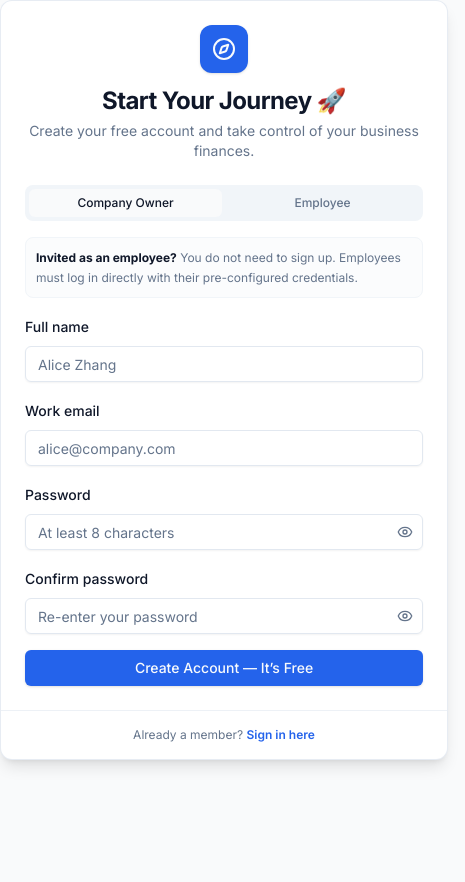
Test case: SignUpForm › validates empty inputs and password length under 8 characters
Type "A" into the field labelled "Full name" at (224, 364), box top-left (25, 346), bottom-right (423, 382)
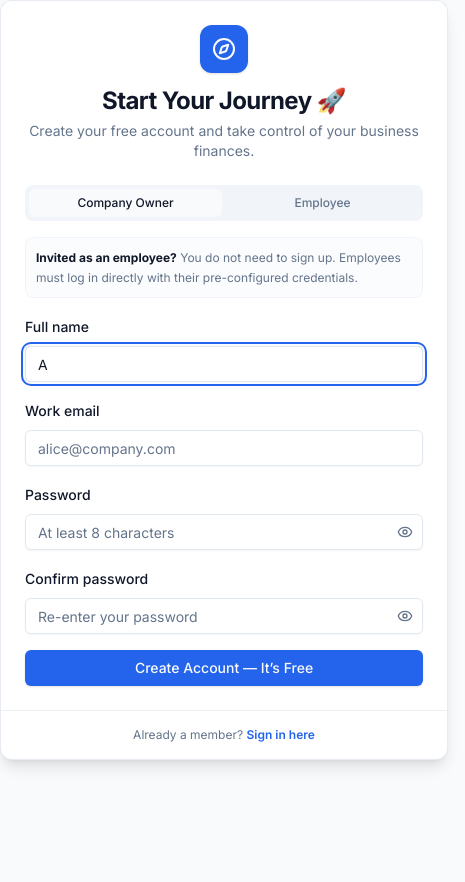
Type "not-an-email" into the field labelled "Work email" at (224, 448), box top-left (25, 430), bottom-right (423, 466)
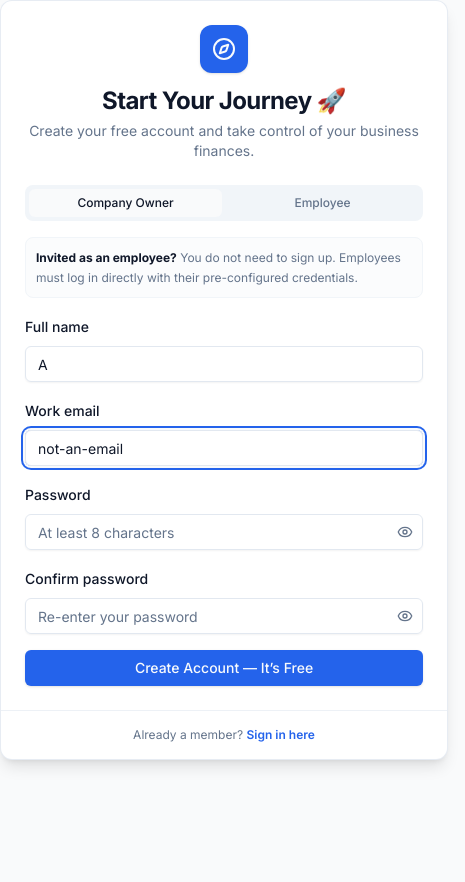
Type "short" into the password field labelled "Password" at (224, 532), box top-left (25, 514), bottom-right (423, 550)
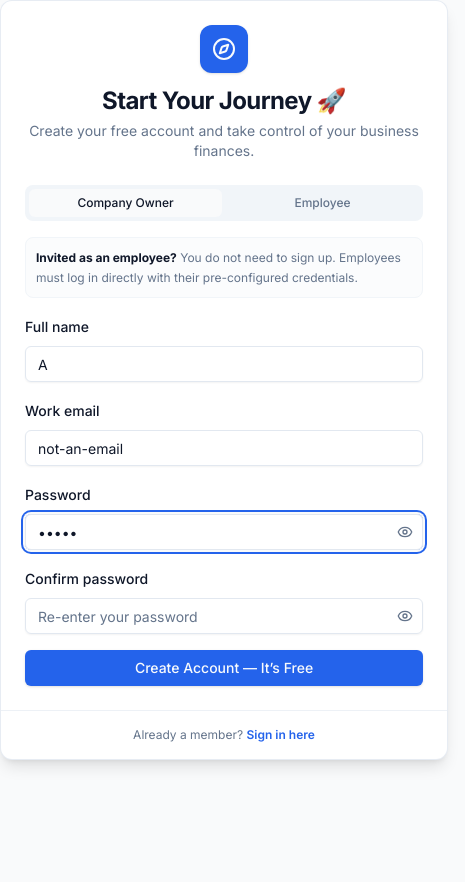
Click the button "Create Account — It’s Free" at (224, 668), box top-left (25, 650), bottom-right (423, 686)
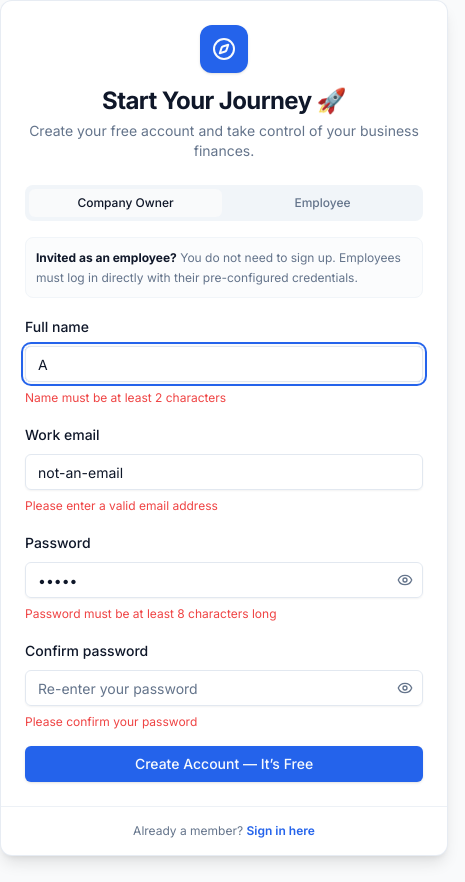
Expected: the text "Name must be at least 2 characters" is shown, top-left (25, 390), bottom-right (226, 405)
Expected: the text "Please enter a valid email address" is shown, top-left (25, 498), bottom-right (218, 513)
Expected: the text "Password must be at least 8 characters long" is shown, top-left (25, 606), bottom-right (276, 621)
